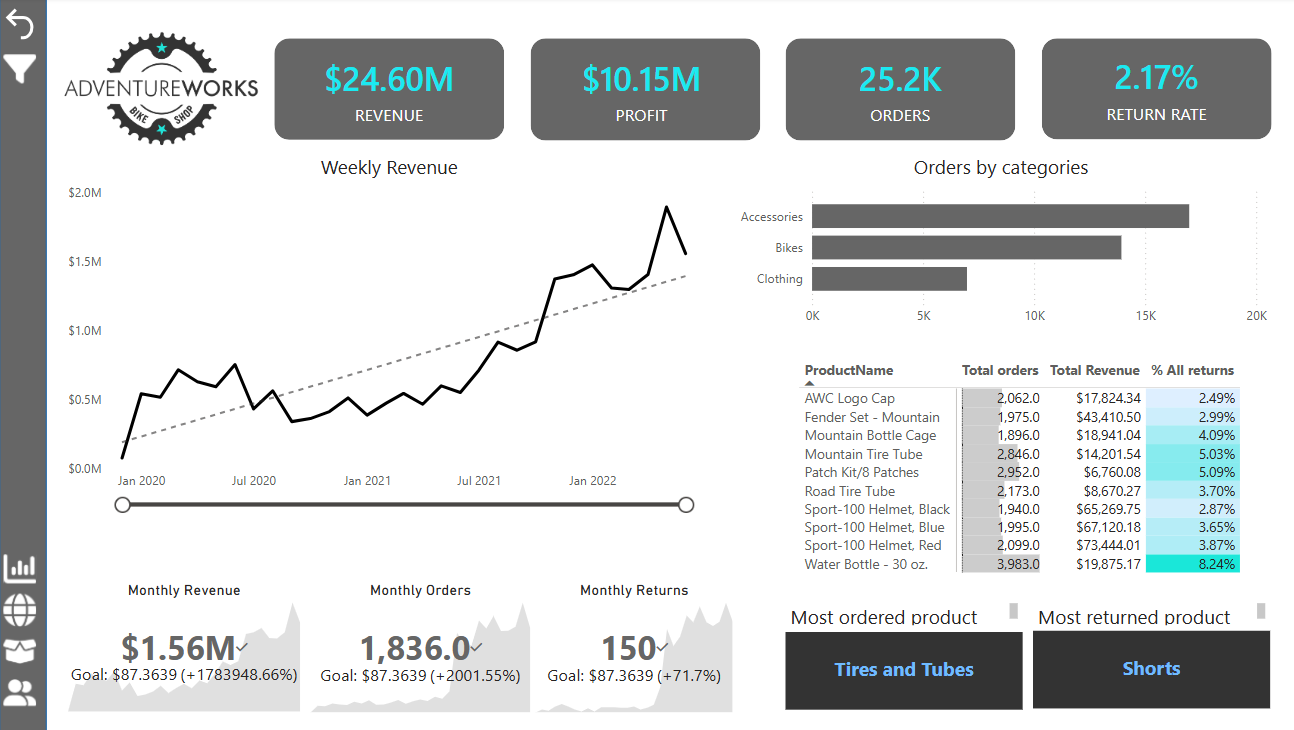

The dashboard page shown, as its layout file describes it:
{"tool":"powerbi","page":{"name":"Exec dasboard","canvas":[1280,720],"ordinal":0},"visuals":[{"type":"image","box":[42.8,26.9,254.3,126],"z":0},{"type":"actionButton","box":[11.5,580,46.5,40.4],"z":0,"group":"g1"},{"type":"shape","box":[279.9,40.4,225.1,99.6],"z":1000},{"type":"actionButton","box":[11.5,620.3,46.5,40.4],"z":1000,"group":"g1"},{"type":"shape","box":[530.3,40.4,225,100.3],"z":2000},{"type":"actionButton","box":[11.5,539.6,46.5,40.4],"z":2000,"group":"g1"},{"type":"shape","box":[780.6,40.4,225,100.3],"z":3000},{"type":"actionButton","box":[11.5,660.7,46.5,40.4],"z":3000,"group":"g1"},{"type":"shape","box":[1030.8,40.4,225,99],"z":4000},{"type":"shape","box":[11,0,46.5,720.2],"z":5000},{"type":"card","fields":{"Values":["Measure Table.Total Revenue (CC)"]},"box":[272.7,40.4,239.7,100.3],"z":6000},{"type":"card","fields":{"Values":["Measure Table.Return rate"]},"box":[1023.5,39.1,239.7,100.3],"z":7000},{"type":"card","fields":{"Values":["Measure Table.Total orders"]},"box":[772.8,40.4,239.7,100.3],"z":8000},{"type":"card","fields":{"Values":["Measure Table.Total profit"]},"box":[519.7,40.4,239.7,100.3],"z":9000},{"type":"lineChart","title":"Weekly Revenue","fields":{"Category":["Calendar Lookup.Start of Month.Variation.Date Hierarchy.Year","Calendar Lookup.Start of Month.Variation.Date Hierarchy.Quarter","Calendar Lookup.Start of Month.Variation.Date Hierarchy.Month","Calendar Lookup.Start of Month.Variation.Date Hierarchy.Day"],"Y":["Measure Table.Total Revenue"]},"box":[73.4,152.9,638.3,354.6],"z":10000},{"type":"kpi","title":"Monthly Revenue","fields":{"Indicator":["Measure Table.Total Revenue"],"TrendLine":["Calendar Lookup.Start of Month"],"Goal":["Measure Table.AvgRevenuePerCustomer"]},"box":[73.4,571.1,237.2,133.3],"z":11000},{"type":"kpi","title":"Monthly Orders","fields":{"TrendLine":["Calendar Lookup.Start of Month"],"Goal":["Measure Table.AvgRevenuePerCustomer"],"Indicator":["Measure Table.Total orders"]},"box":[310.6,571.1,225,149.2],"z":12000},{"type":"kpi","title":"Monthly Returns","fields":{"TrendLine":["Calendar Lookup.Start of Month"],"Goal":["Measure Table.AvgRevenuePerCustomer"],"Indicator":["Measure Table.Total returns"]},"box":[530.7,571.1,203,149.2],"z":13000},{"type":"barChart","title":"Orders by categories","fields":{"Category":["Product Categories Lookup.CategoryName"],"Y":["Measure Table.Total orders"]},"box":[726.4,152.9,529.5,177.3],"z":14000},{"type":"pivotTable","fields":{"Rows":["Product Lookup.ProductName"],"Values":["Measure Table.Total orders","Measure Table.Total Revenue","Measure Table.% All returns"]},"box":[788.7,351,446.3,220.1],"z":15000},{"type":"card","fields":{"Values":["Min(Product Subcategories Lookup.SubcategoryName)"]},"box":[780.2,621.2,232.3,75.8],"z":16000},{"type":"textbox","box":[780.2,588.2,232.3,31.8],"z":17000},{"type":"card","fields":{"Values":["Min(Product Subcategories Lookup.SubcategoryName)"]},"box":[1022,620.4,232.3,75.8],"z":18000},{"type":"textbox","box":[1022.3,588.2,232.3,31.8],"z":19000},{"type":"actionButton","box":[11,6.1,46.5,40.4],"z":20000},{"type":"group","id":"g1","title":"Navigation button","box":[11.5,539.6,46.2,160.1],"z":21000},{"type":"actionButton","box":[11,50.1,46.5,40.4],"z":23000}]}

Visuals, with their boxes on the page's 1280x720 design canvas (x1, y1, x2, y2). These are canvas units, not pixel positions in the 1294x730 screenshot, which may show the page scaled, cropped or inside an application window:
image: left=43, top=27, right=297, bottom=153
actionButton: left=12, top=580, right=58, bottom=620
shape: left=280, top=40, right=505, bottom=140
actionButton: left=12, top=620, right=58, bottom=661
shape: left=530, top=40, right=755, bottom=141
actionButton: left=12, top=540, right=58, bottom=580
shape: left=781, top=40, right=1006, bottom=141
actionButton: left=12, top=661, right=58, bottom=701
shape: left=1031, top=40, right=1256, bottom=139
shape: left=11, top=0, right=58, bottom=720
card - Measure Table.Total Revenue (CC): left=273, top=40, right=512, bottom=141
card - Measure Table.Return rate: left=1024, top=39, right=1263, bottom=139
card - Measure Table.Total orders: left=773, top=40, right=1012, bottom=141
card - Measure Table.Total profit: left=520, top=40, right=759, bottom=141
"Weekly Revenue" lineChart: left=73, top=153, right=712, bottom=508
"Monthly Revenue" kpi: left=73, top=571, right=311, bottom=704
"Monthly Orders" kpi: left=311, top=571, right=536, bottom=720
"Monthly Returns" kpi: left=531, top=571, right=734, bottom=720
"Orders by categories" barChart: left=726, top=153, right=1256, bottom=330
pivotTable - Product Lookup.ProductName x Measure Table.Total orders: left=789, top=351, right=1235, bottom=571
card - Min(Product Subcategories Lookup.SubcategoryName): left=780, top=621, right=1012, bottom=697
textbox: left=780, top=588, right=1012, bottom=620
card - Min(Product Subcategories Lookup.SubcategoryName): left=1022, top=620, right=1254, bottom=696
textbox: left=1022, top=588, right=1255, bottom=620
actionButton: left=11, top=6, right=58, bottom=46
"Navigation button" group: left=12, top=540, right=58, bottom=700
actionButton: left=11, top=50, right=58, bottom=90
